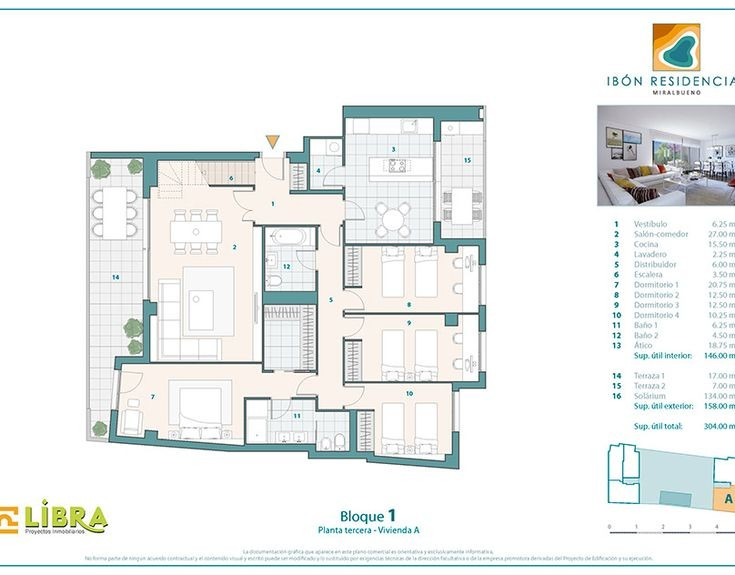door: (230, 188, 259, 226), (259, 158, 287, 185), (267, 399, 293, 422), (294, 246, 317, 272), (117, 370, 143, 392), (342, 382, 364, 407), (347, 197, 367, 224), (343, 289, 366, 310), (347, 318, 364, 341), (298, 377, 318, 394), (326, 170, 343, 185)
room: (150, 163, 257, 360), (125, 366, 270, 440), (347, 121, 433, 241), (347, 247, 481, 314), (348, 314, 481, 380), (346, 385, 452, 457), (265, 232, 316, 289), (270, 399, 318, 446)
wall: (117, 438, 320, 451), (345, 105, 483, 121), (90, 150, 254, 160), (374, 453, 461, 468), (346, 309, 481, 316), (345, 377, 457, 385), (260, 291, 324, 304), (257, 223, 267, 293), (144, 300, 153, 361), (314, 450, 374, 459), (143, 161, 157, 199), (436, 237, 485, 247), (448, 430, 459, 465), (260, 222, 324, 228), (482, 113, 485, 238), (312, 304, 317, 374), (342, 240, 425, 244), (456, 382, 487, 391), (242, 399, 248, 445), (159, 359, 246, 362), (260, 309, 264, 374), (348, 411, 354, 453), (478, 304, 487, 332), (120, 355, 148, 363), (306, 135, 310, 189), (434, 118, 442, 145), (342, 336, 347, 378), (319, 408, 348, 414), (432, 220, 440, 241), (293, 191, 343, 194), (295, 367, 315, 374), (315, 226, 321, 248), (113, 412, 117, 442), (293, 395, 318, 399), (312, 274, 318, 290), (314, 401, 319, 410)
window: (431, 143, 443, 216), (449, 393, 463, 432), (476, 332, 489, 371), (476, 268, 485, 309)
